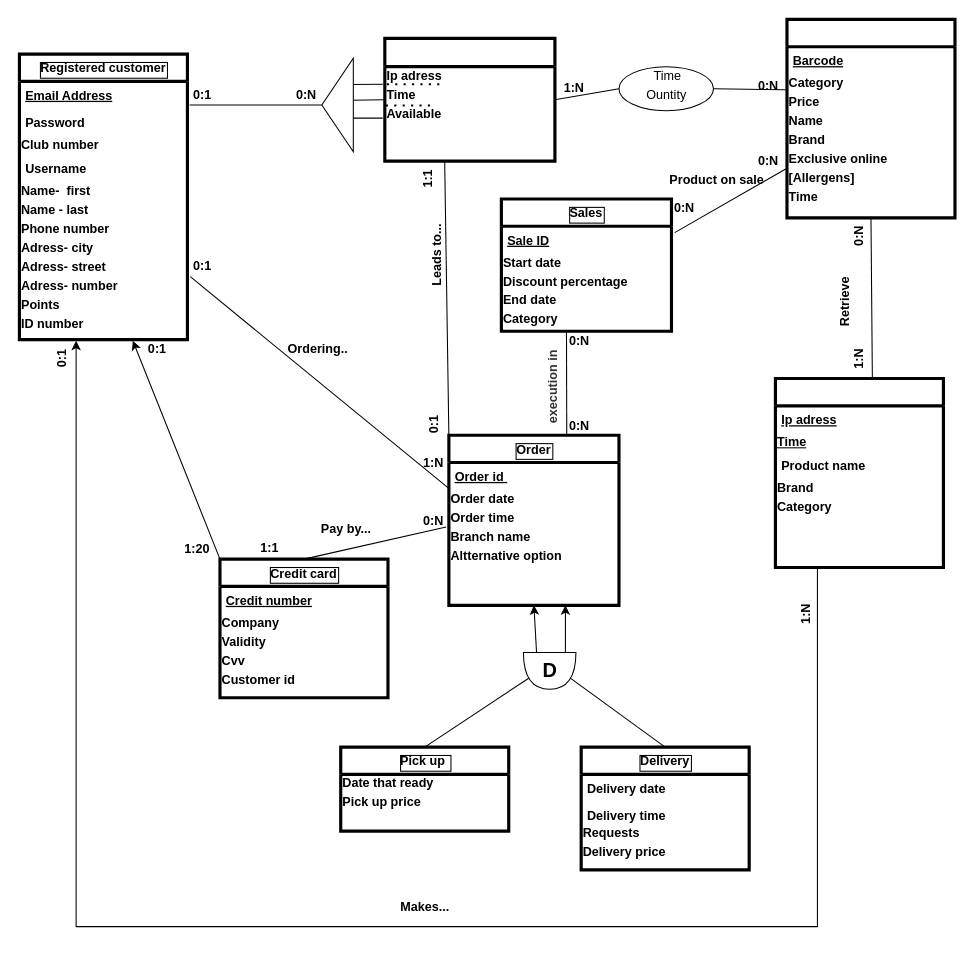
The diagram is 974 pixels wide and 953 high, and some of its shapes have lost their labels. Here are the shapes that lost their labels. From the top down, the box of each, then its label:
(383, 36, 556, 162): Shopping cart
(785, 17, 956, 219): Produuct
(773, 376, 944, 569): Search
